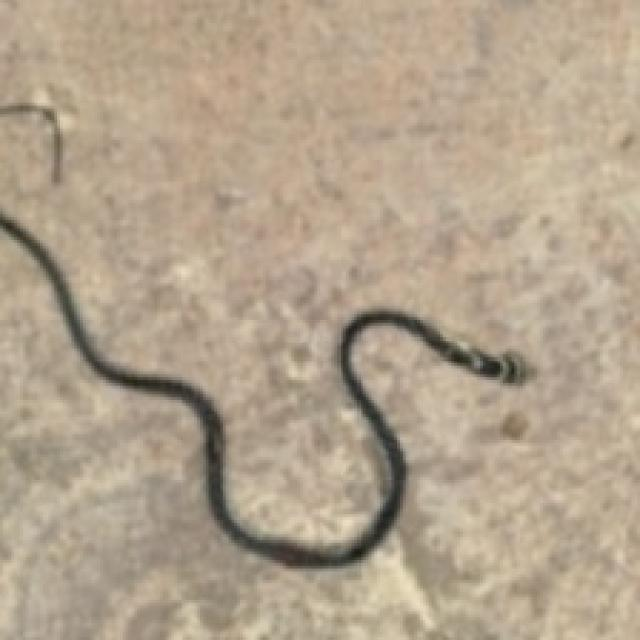king cobra: (0, 211, 529, 566)
